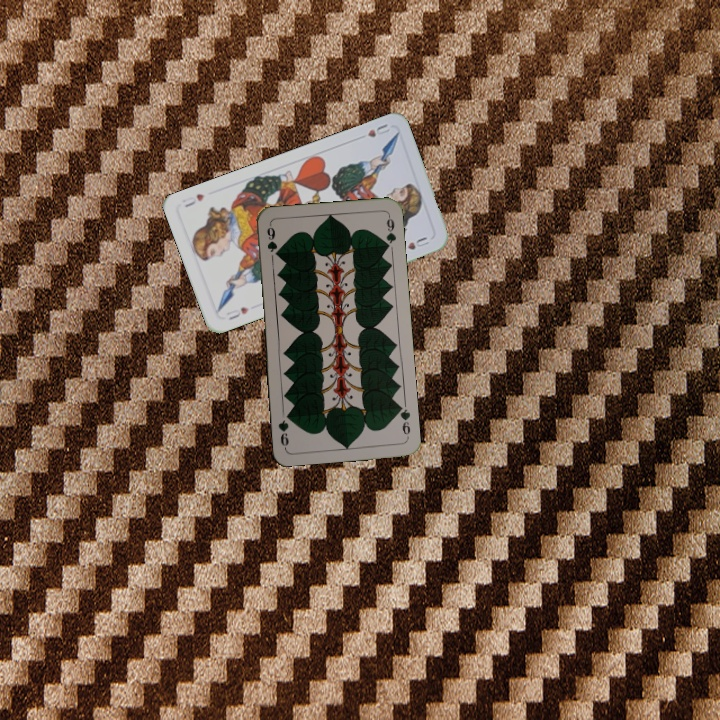G9: (394, 400, 413, 440), (263, 221, 280, 254)
HU: (222, 303, 252, 323), (364, 120, 392, 140)
